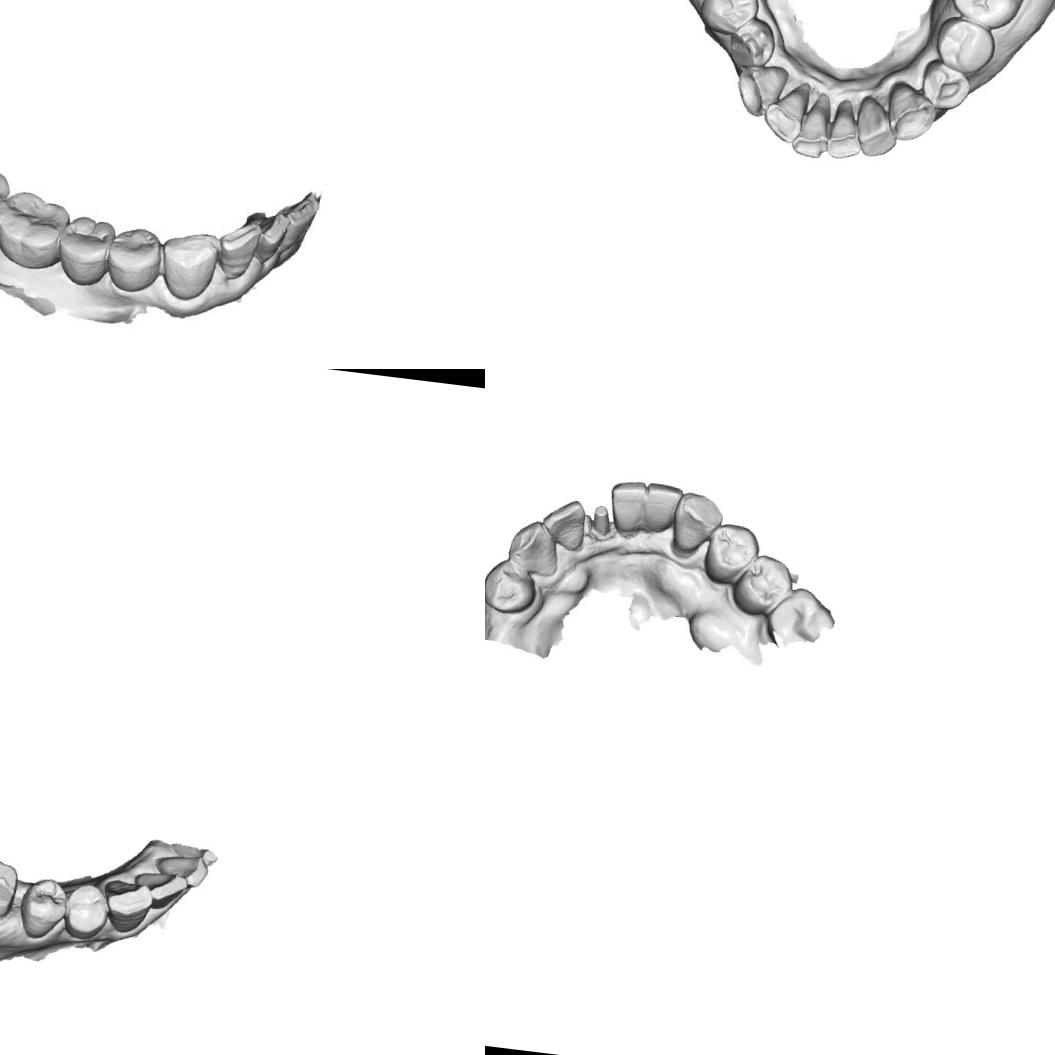abutment: (584, 500, 615, 538)
canine: (158, 227, 220, 302), (669, 489, 727, 558), (504, 517, 564, 580), (731, 62, 793, 120), (98, 876, 156, 938), (884, 81, 940, 144)
crown: (0, 847, 24, 926)
incisor: (536, 493, 589, 554), (852, 92, 900, 159), (761, 84, 810, 143), (603, 473, 650, 534), (790, 95, 832, 162), (825, 100, 866, 163), (150, 848, 211, 890), (216, 220, 260, 278), (255, 210, 296, 268), (132, 867, 190, 908), (641, 475, 681, 530)
molar: (0, 189, 70, 270), (766, 582, 840, 650), (948, 0, 1038, 34)
premolar: (729, 550, 798, 621), (700, 518, 764, 589), (104, 224, 164, 296), (54, 212, 112, 282), (14, 872, 70, 944), (931, 15, 996, 77), (485, 556, 539, 616), (61, 879, 112, 942), (918, 59, 971, 112), (726, 17, 776, 70), (695, 0, 763, 38)
